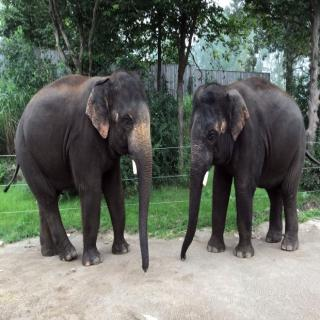Elephant: (2, 68, 158, 277), (177, 73, 308, 263)
